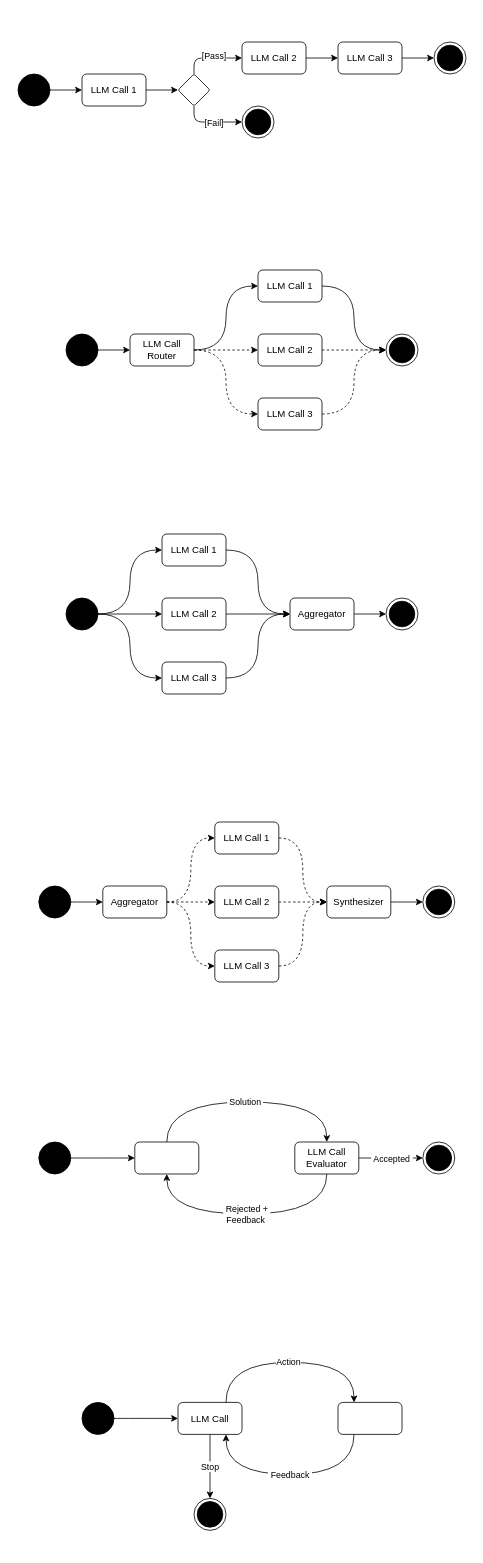
This 483x1563 diagram has some shape labels left out. The shapes that lost their labels are listed below. From the top down, each one's centre as x and y in pixels, then its label:
At pixel 193 89: "Gate".
At pixel 166 1157: "LLM Call Generator".
At pixel 369 1418: "Environment".
